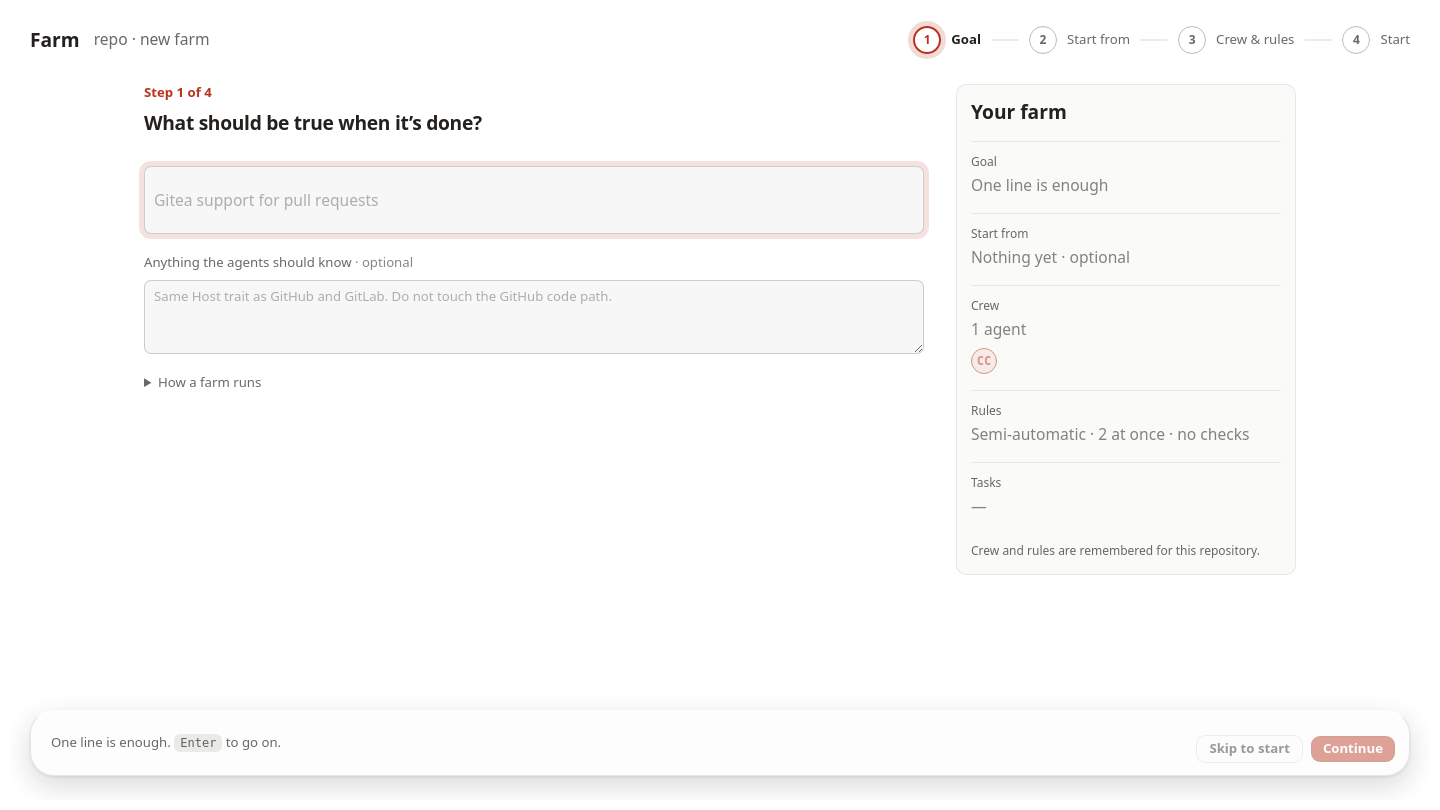
Test: Farm journey routes and actions › asks only for the goal, and refuses to go on without one
Check: the button "Continue" is disabled, box [1311,736,1395,762]
Check: the button "Skip to start" is disabled, box [1196,735,1303,763]
Type "Ship it" into the field with class "goal" at [534, 200], box [144,166,924,234]
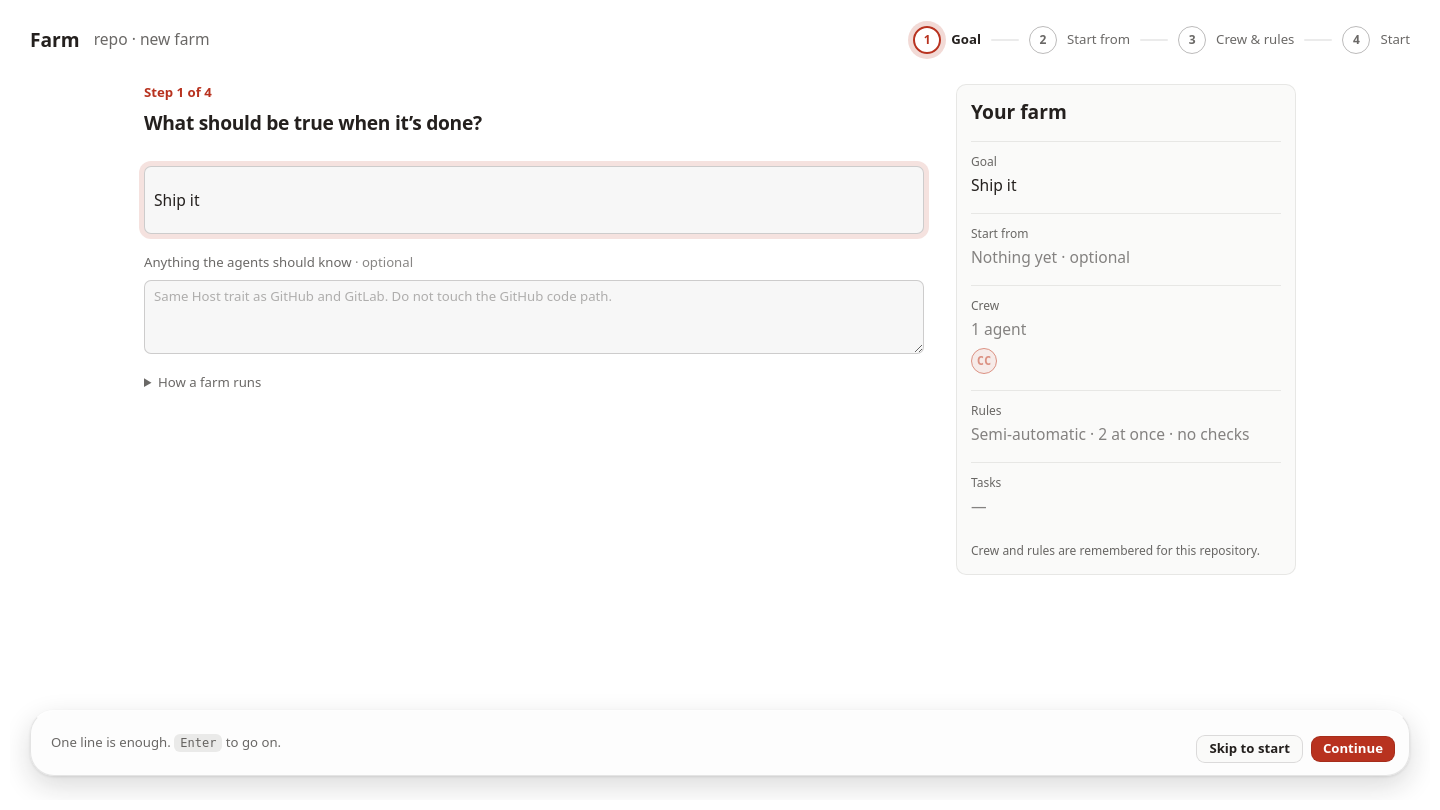
Check: the button "Continue" is enabled, box [1311,736,1395,762]
